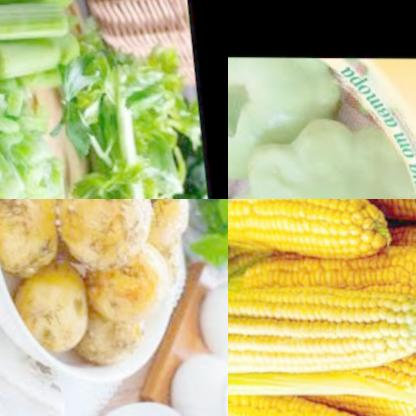celery: (50, 58, 196, 199), (0, 41, 64, 199), (0, 0, 96, 90)
corn: (228, 276, 416, 383), (232, 244, 416, 299), (228, 199, 389, 258), (287, 357, 416, 416), (228, 388, 405, 416), (367, 199, 414, 215)
potato: (0, 261, 95, 360), (78, 237, 174, 324), (47, 199, 152, 273), (65, 288, 152, 367), (0, 199, 67, 279), (129, 199, 195, 252)
squash-patisson: (228, 117, 416, 199), (228, 57, 349, 179)
